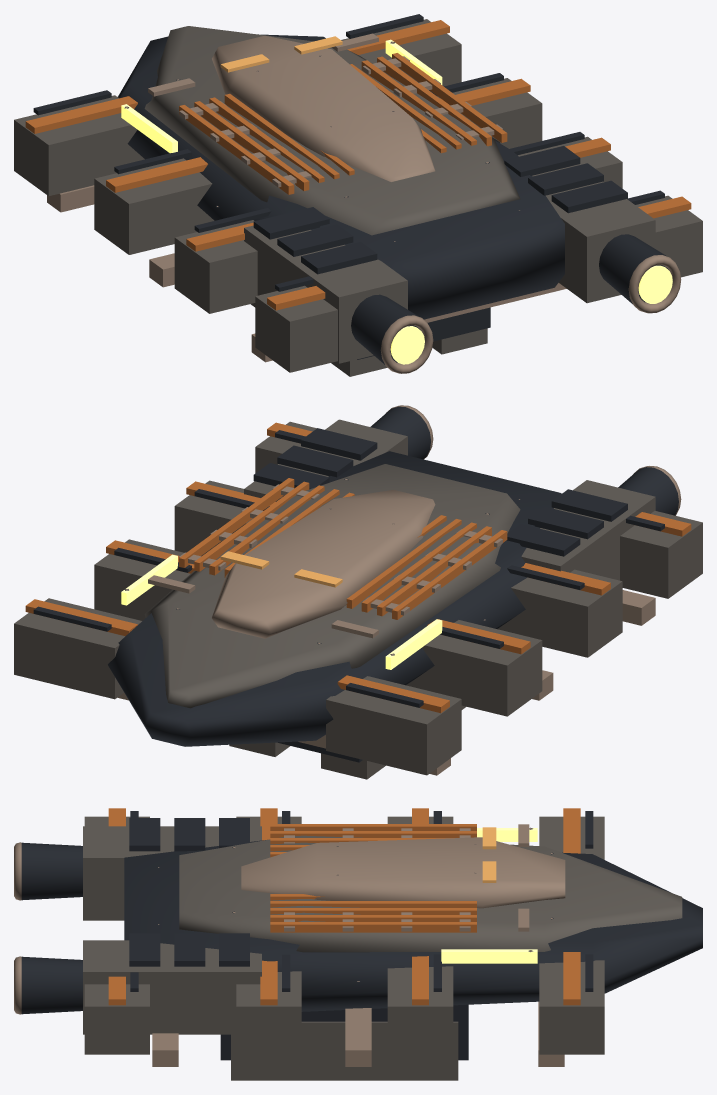
File: compact_high_gravity--resource_outpost_ship.glb
3 views of the same model, one above another, from view 1: azimuth 30°, elevation 25°; view 2: azimuth 150°, elevation 25°; view 3: azimuth 270°, elevation 25° (orthographic). The views are drawn at different scales.
Parts seen in each view (by area): view 1: load_bearing_wedge_1, stepped_main_plate_2, reinforced_command_deck_3, habitat_block_47, habitat_block_50, armored_drive_block_4, armored_drive_block_25, habitat_block_53, habitat_block_56, habitat_block_62, habitat_block_68, habitat_block_59 (+42 smaller); view 2: stepped_main_plate_2, load_bearing_wedge_1, reinforced_command_deck_3, habitat_block_47, habitat_block_50, habitat_block_59, habitat_block_53, habitat_block_56, armored_drive_block_4, habitat_block_62, habitat_block_65, armored_drive_block_25 (+29 smaller); view 3: load_bearing_wedge_1, stepped_main_plate_2, reinforced_command_deck_3, armored_drive_block_25, deployment_slab_76, habitat_block_59, armored_drive_block_4, habitat_block_62, habitat_block_65, habitat_block_68, engine_shroud_5, engine_shroud_26 (+28 smaller).
Boxes of the visible parts, x1,y1,x2,y2 form: load_bearing_wedge_1: (118, 34, 564, 319); stepped_main_plate_2: (144, 26, 520, 235); reinforced_command_deck_3: (212, 35, 435, 181); habitat_block_47: (14, 95, 144, 196); habitat_block_50: (94, 158, 214, 254); armored_drive_block_4: (244, 225, 407, 363); armored_drive_block_25: (532, 164, 655, 303); habitat_block_53: (174, 220, 257, 313); habitat_block_56: (255, 285, 337, 372); habitat_block_62: (437, 78, 542, 148); habitat_block_68: (635, 195, 702, 277); habitat_block_59: (341, 19, 461, 86); stepped_main_plate_2: (144, 464, 520, 708); load_bearing_wedge_1: (108, 451, 561, 746); reinforced_command_deck_3: (212, 490, 435, 638); habitat_block_47: (326, 676, 461, 775); habitat_block_50: (406, 620, 542, 716); habitat_block_59: (14, 598, 141, 699); habitat_block_53: (497, 569, 622, 657); habitat_block_56: (620, 511, 702, 598); armored_drive_block_4: (521, 480, 655, 580); habitat_block_62: (94, 539, 190, 620); habitat_block_65: (174, 480, 252, 556); armored_drive_block_25: (244, 419, 407, 501); load_bearing_wedge_1: (124, 840, 702, 1011); stepped_main_plate_2: (179, 835, 682, 952); reinforced_command_deck_3: (241, 837, 565, 908); armored_drive_block_25: (83, 940, 261, 1034); deployment_slab_76: (231, 1021, 458, 1080); habitat_block_59: (539, 960, 604, 1054); armored_drive_block_4: (83, 826, 261, 920); habitat_block_62: (387, 966, 453, 1054); habitat_block_65: (236, 971, 301, 1054); habitat_block_68: (84, 984, 149, 1054); engine_shroud_5: (21, 842, 82, 900); engine_shroud_26: (21, 956, 82, 1014).
Bounding box in the file's own units: 2100 × 1000 × 3200.
